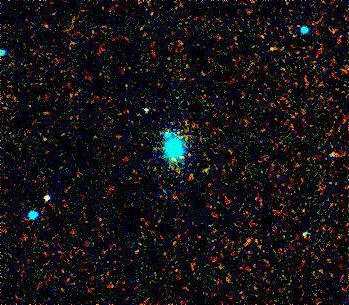star: (189, 156, 219, 186)
